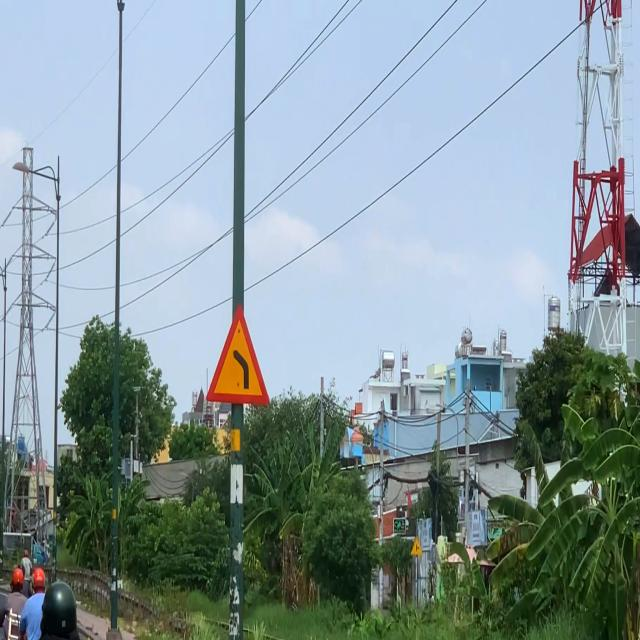Nguy hiem: (205, 303, 270, 406)
